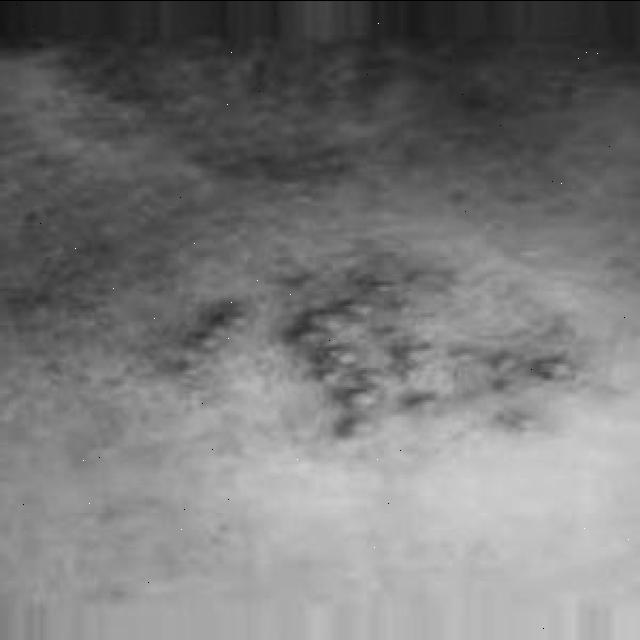Shingles: (189, 275, 573, 439)
